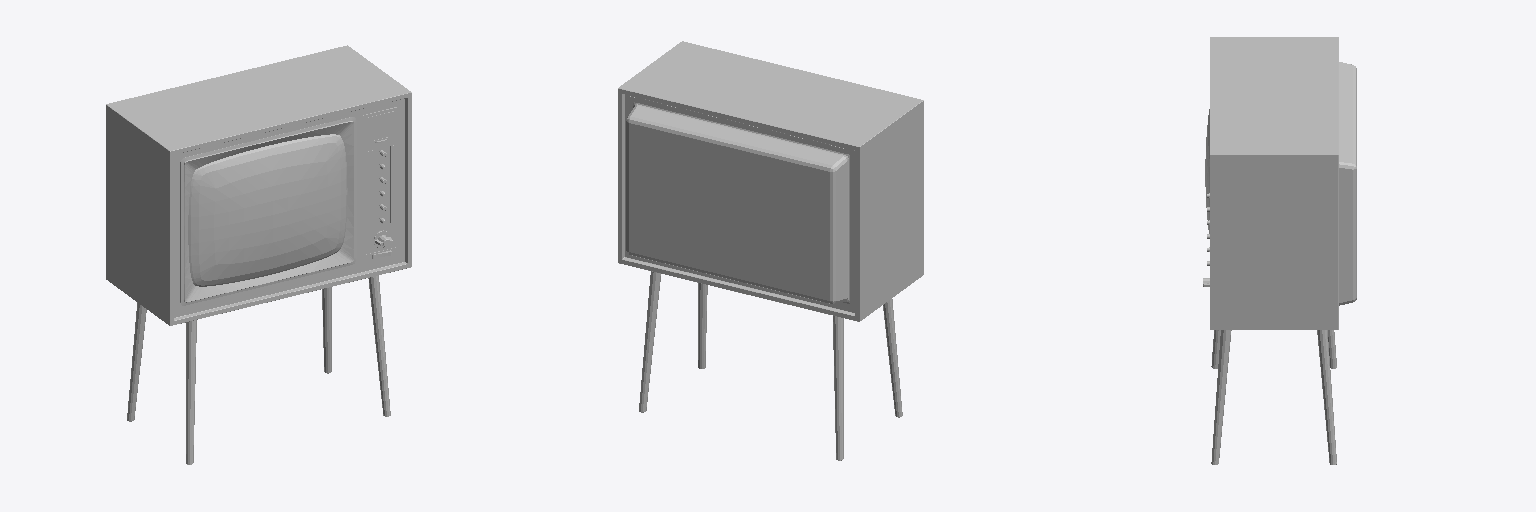
The model's file is VintageTV.obj.
3 views of the same model, side by side, from view 1: azimuth 30°, elevation 25°; view 2: azimuth 150°, elevation 25°; view 3: azimuth 270°, elevation 25° (orthographic).
Visible parts, largest first — view 1: TV_Cube; view 2: TV_Cube; view 3: TV_Cube.
Part boxes in pixels (x1,y1,x2,y2): TV_Cube: (106,45,411,464); TV_Cube: (618,41,923,460); TV_Cube: (1205,37,1356,464).
Size of the model in its own units: 1.01 by 1.28 by 0.5596.